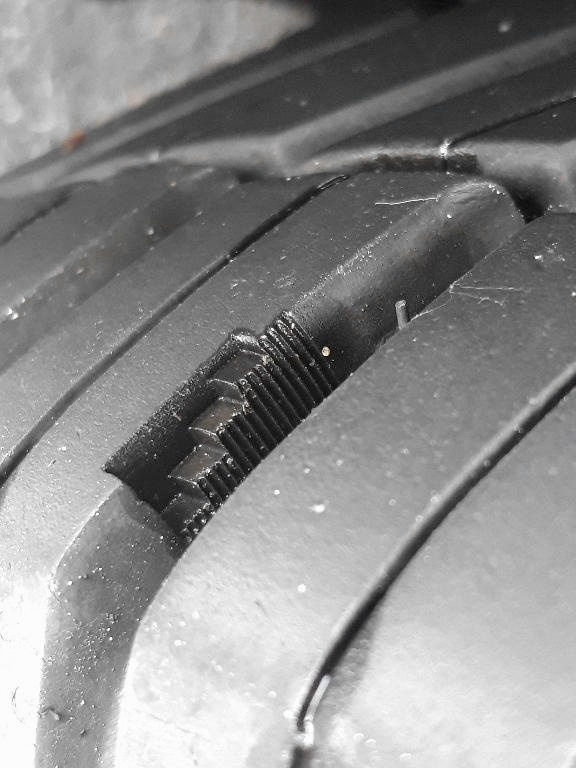temoin:90: (95, 303, 346, 562)
